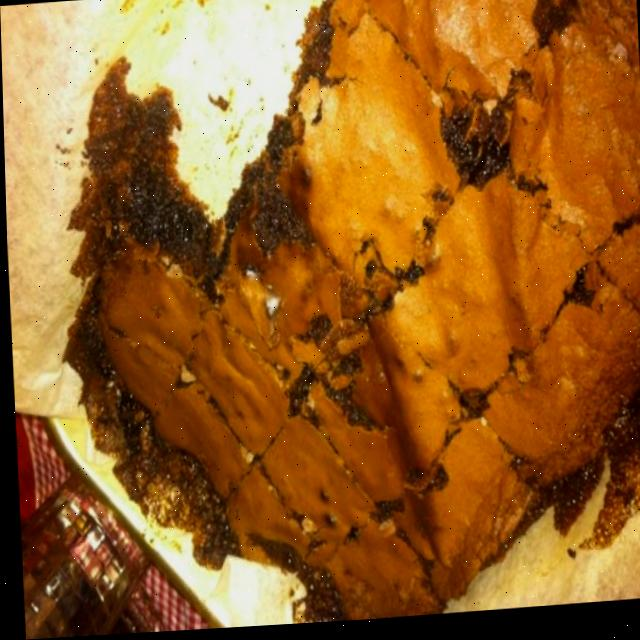蛋糕甜品: (6, 0, 640, 605)
